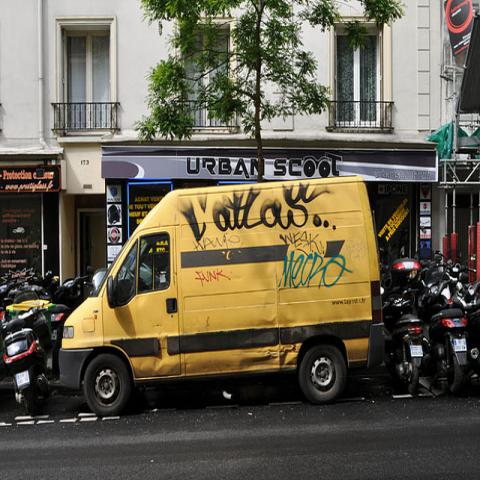car: (57, 178, 382, 419)
motorcycle: (412, 263, 479, 397), (0, 303, 56, 418), (380, 284, 423, 396), (452, 272, 480, 378)
truck: (59, 176, 384, 415)
